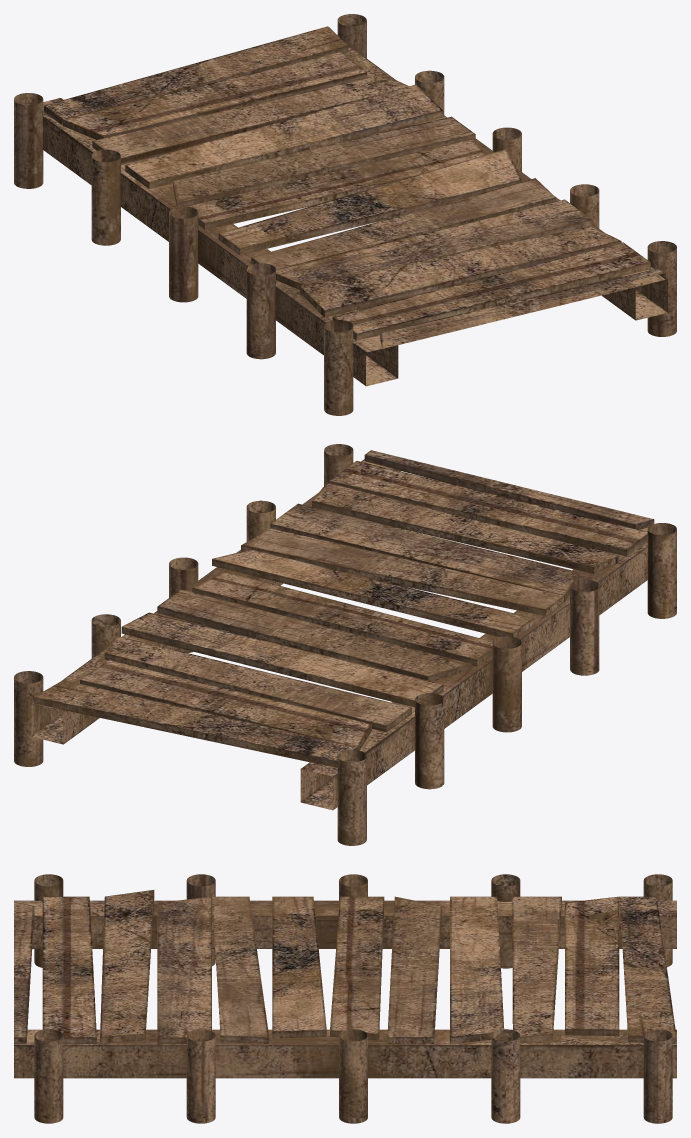
Rendered from wharf-deck.glb.
The picture shows the model from 3 angles, top to bottom: view 1: azimuth 30°, elevation 25°; view 2: azimuth 150°, elevation 25°; view 3: azimuth 270°, elevation 25°; orthographic projection.
Visible parts, largest first — view 1: wharf-deck; view 2: wharf-deck; view 3: wharf-deck.
Boxes of the visible parts, box(x1,y1,x2,y2) form: wharf-deck: box(14, 14, 676, 415); wharf-deck: box(14, 444, 676, 845); wharf-deck: box(14, 874, 676, 1123).
Bounding box in the file's own units: 2 × 0.4579 × 3.35.
1 material, 1 textured.
